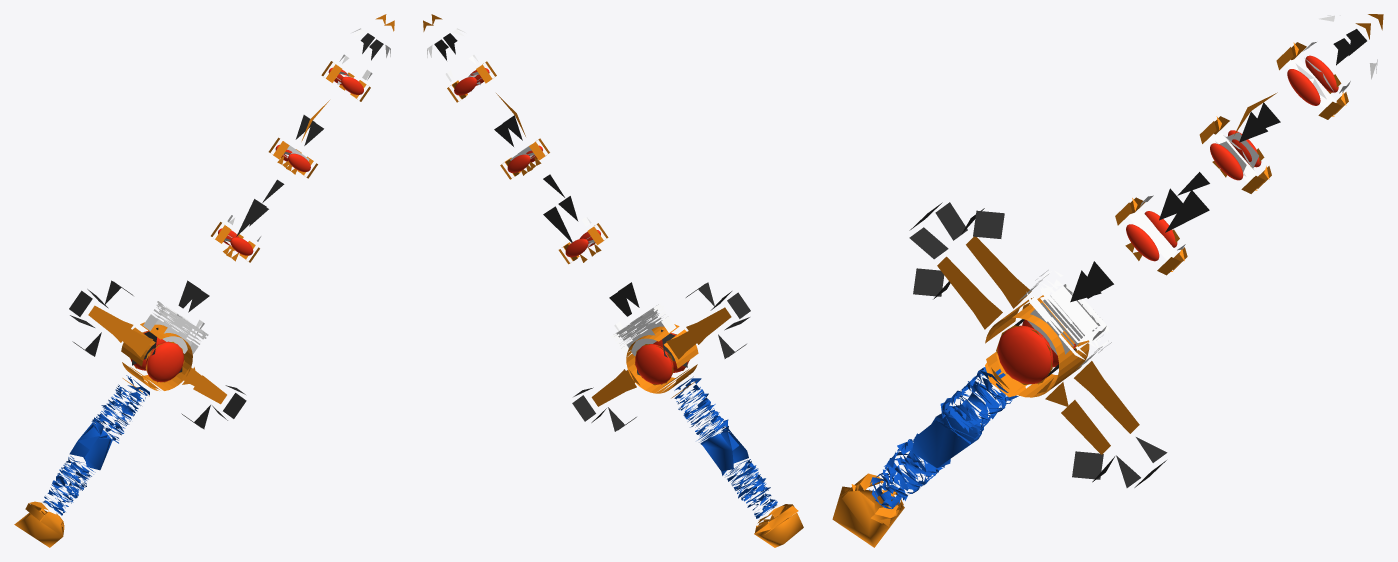
The model's file is excalibur.obj.
The picture shows the model from 3 angles, left to right: view 1: azimuth 30°, elevation 25°; view 2: azimuth 150°, elevation 25°; view 3: azimuth 330°, elevation 25°; orthographic projection. The views are drawn at different scales.
Parts seen in each view (by area): view 1: Object_4, Object_36, Object_10, Object_8, Object_54, Object_14, Object_12, Object_40, Object_38; view 2: Object_4, Object_36, Object_10, Object_8, Object_14, Object_54, Object_12, Object_40, Object_38; view 3: Object_4, Object_36, Object_10, Object_14, Object_8, Object_54, Object_12, Object_40, Object_34, Object_30, Object_24, Object_32 (+7 smaller).
Boxes of the visible parts, box(x1,y1,x2,y2) form: Object_4: box(43, 375, 149, 515); Object_36: box(88, 305, 226, 404); Object_10: box(69, 280, 246, 429); Object_8: box(121, 322, 192, 390); Object_54: box(14, 501, 64, 547); Object_14: box(143, 301, 208, 354); Object_12: box(131, 330, 183, 382); Object_40: box(236, 179, 284, 236); Object_38: box(178, 280, 209, 312); Object_4: box(674, 376, 777, 518); Object_36: box(591, 307, 731, 406); Object_10: box(572, 282, 750, 431); Object_8: box(626, 324, 698, 393); Object_14: box(610, 303, 676, 356); Object_54: box(754, 504, 803, 547); Object_12: box(635, 333, 688, 384); Object_40: box(543, 174, 578, 242); Object_38: box(609, 282, 639, 316); Object_4: box(869, 367, 1019, 509); Object_36: box(937, 236, 1139, 454); Object_10: box(909, 202, 1167, 487); Object_14: box(1018, 270, 1111, 369); Object_8: box(985, 295, 1089, 397); Object_54: box(832, 473, 904, 547); Object_12: box(997, 319, 1075, 383); Object_40: box(1159, 172, 1209, 232); Object_34: box(1287, 55, 1338, 105); Object_30: box(1126, 211, 1177, 261); Object_24: box(1208, 58, 1333, 183); Object_32: box(1210, 130, 1261, 180).
Size of the model in its own units: 4.6 by 5.36 by 0.581.
